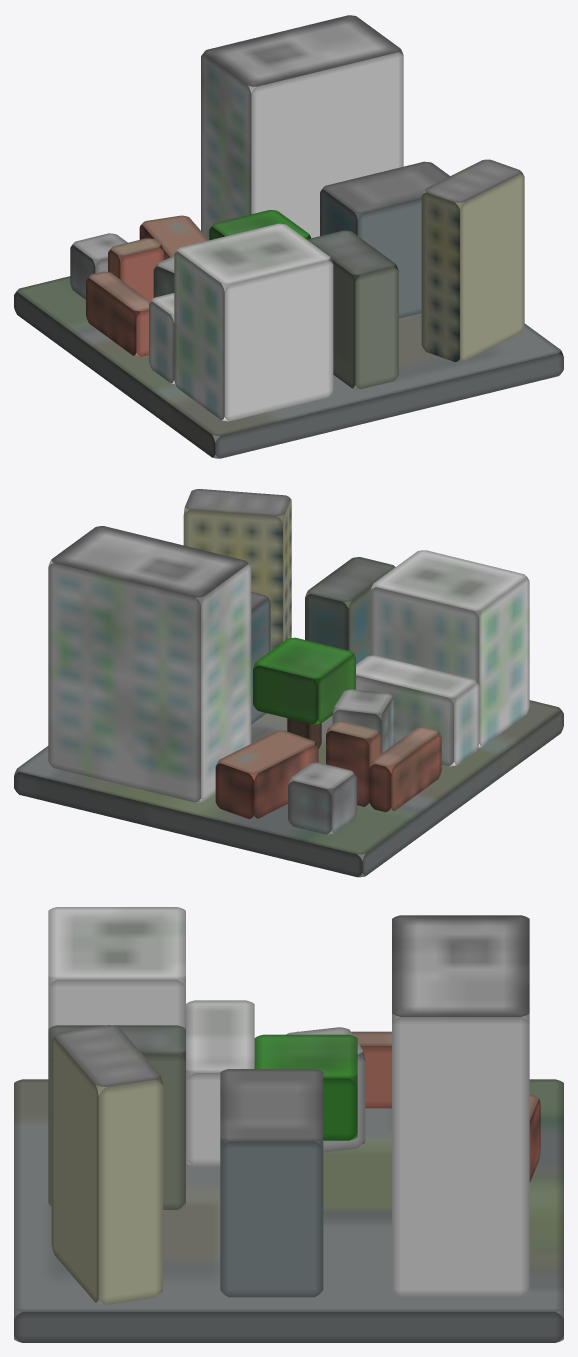
File: neighbourhood-2.fbx
3 renders of one model, top to bottom at view 1: azimuth 30°, elevation 25°; view 2: azimuth 150°, elevation 25°; view 3: azimuth 270°, elevation 25°, orthographic. The views are drawn at different scales.
Parts seen in each view (by area): view 1: mesh_1, mesh_2, mesh, mesh_5, mesh_4, mesh_3, mesh_9, mesh_7, mesh_11, mesh_8, mesh_6, mesh_13 (+1 smaller); view 2: mesh_1, mesh, mesh_2, mesh_5, mesh_11, mesh_13, mesh_6, mesh_4, mesh_9, mesh_8, mesh_7, mesh_10 (+2 smaller); view 3: mesh, mesh_1, mesh_5, mesh_3, mesh_2, mesh_11, mesh_4, mesh_13, mesh_9, mesh_10, mesh_6.
Part boxes in pixels (x1,y1,x2,y2): mesh_1: (201,15,403,239); mesh_2: (174,223,333,421); mesh: (14,276,563,458); mesh_5: (421,159,524,362); mesh_4: (308,230,398,389); mesh_3: (320,161,449,318); mesh_9: (86,271,150,356); mesh_7: (108,238,163,301); mesh_11: (149,293,174,384); mesh_8: (70,233,127,299); mesh_6: (139,215,208,259); mesh_13: (209,210,310,240); mesh_1: (48,526,251,802); mesh: (14,700,563,877); mesh_2: (370,550,529,747); mesh_5: (183,489,291,650); mesh_11: (356,655,479,766); mesh_13: (253,637,355,724); mesh_6: (215,730,318,818); mesh_4: (305,557,395,664); mesh_9: (369,727,441,812); mesh_8: (288,762,356,834); mesh_7: (326,721,381,806); mesh_10: (332,689,394,752); mesh: (14,1079,563,1342); mesh_1: (392,915,529,1297); mesh_5: (51,1025,163,1304); mesh_3: (220,1069,323,1297); mesh_2: (48,907,185,1028); mesh_11: (186,1000,254,1166); mesh_4: (48,1025,185,1209); mesh_13: (254,1034,357,1140); mesh_9: (297,1031,391,1108); mesh_10: (286,1027,365,1152); mesh_6: (529,1094,540,1181).
Bounding box in the file's own units: 500 × 312 × 500.
1 material, 1 textured.
